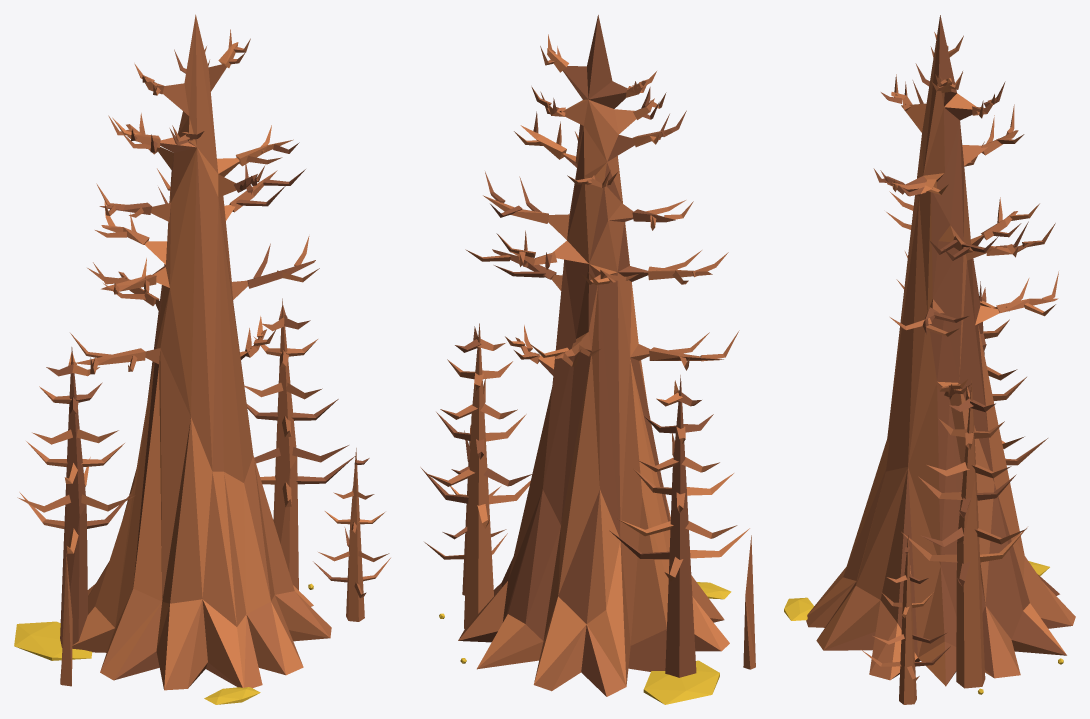
The model's file is giant_sequoia_bare_far.glb.
The picture shows the model from 3 angles, left to right: view 1: azimuth 30°, elevation 25°; view 2: azimuth 150°, elevation 25°; view 3: azimuth 270°, elevation 25°; orthographic projection.
Visible parts, largest first — view 1: giant_sequoia_bare_far; view 2: giant_sequoia_bare_far; view 3: giant_sequoia_bare_far.
Boxes of the visible parts, x1=… form: giant_sequoia_bare_far: x1=14, y1=14, x2=390, y2=704; giant_sequoia_bare_far: x1=420, y1=15, x2=755, y2=704; giant_sequoia_bare_far: x1=784, y1=15, x2=1075, y2=704.
Bounding box in the file's own units: 26.01 × 45.14 × 19.28.
